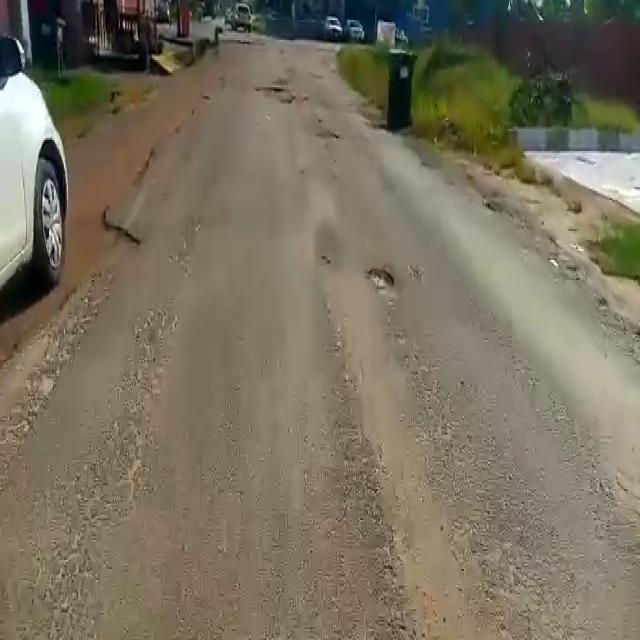Pothole: (365, 264, 401, 294)
